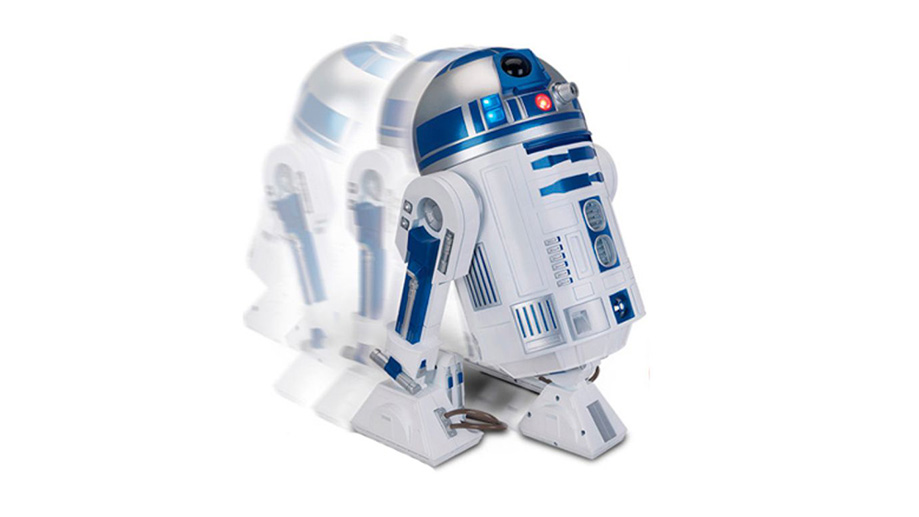r2d2: (365, 49, 643, 459)
